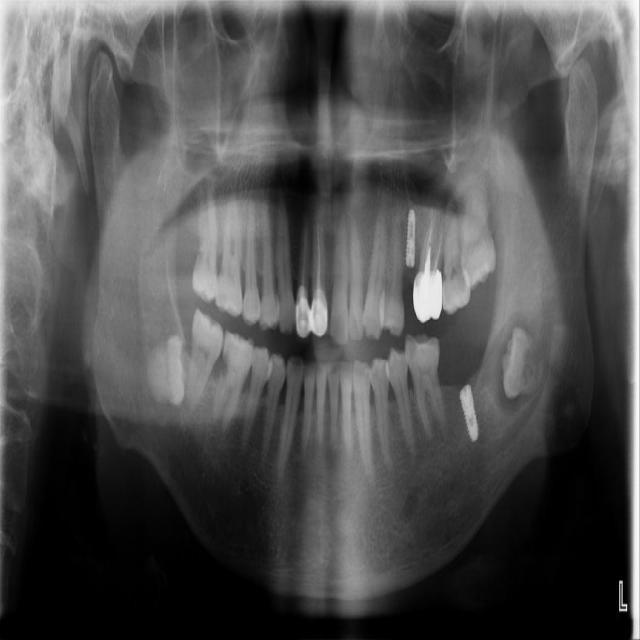52: (295, 287, 329, 338), (413, 269, 442, 324), (454, 253, 469, 294), (220, 350, 232, 382), (441, 250, 447, 284), (408, 343, 418, 363), (217, 291, 229, 307)
73: (416, 200, 451, 277), (312, 209, 327, 302), (298, 217, 311, 297), (618, 618, 627, 628)
BioHorizons Implant: (442, 197, 472, 315)
BioLife Implant: (458, 186, 497, 292)
Biomet 3i Implant: (500, 326, 546, 400)
Caries: (192, 187, 220, 304)
Implant: (183, 308, 226, 415)
Keystone Dental Implant: (143, 333, 187, 405)
